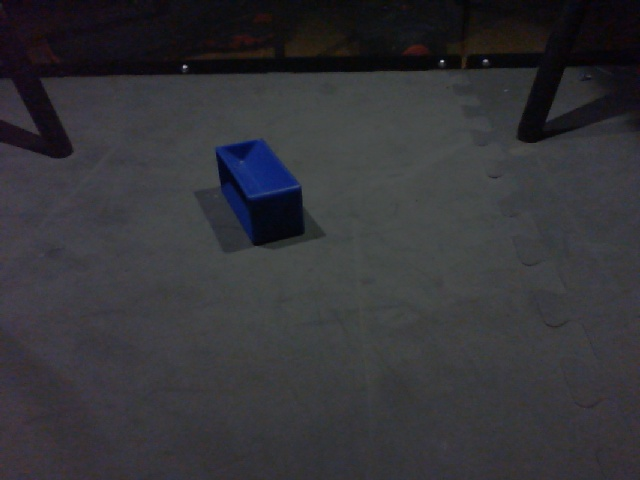BlueSample: (211, 134, 312, 249)
